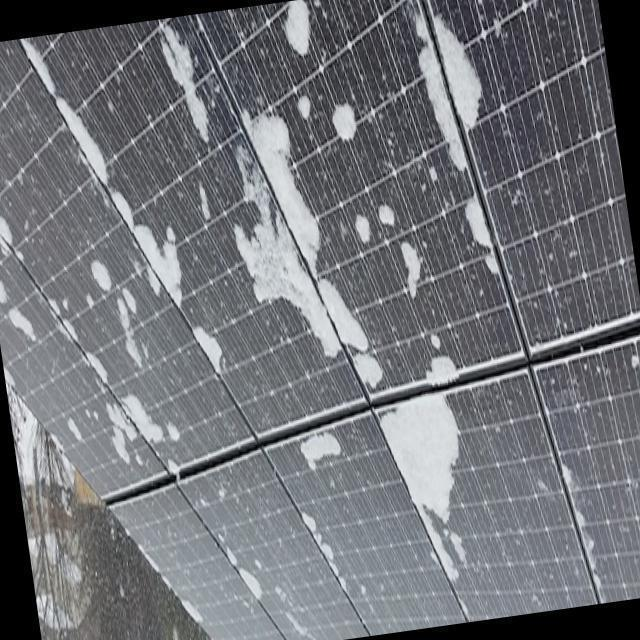Anomaly Solar Panel: (18, 17, 369, 438), (199, 0, 528, 397), (0, 41, 254, 476), (424, 0, 639, 352), (375, 369, 597, 621), (262, 410, 467, 635), (0, 238, 168, 500), (179, 452, 370, 640), (533, 337, 640, 601), (107, 486, 286, 640)
Snow: (368, 365, 484, 558), (230, 102, 311, 308), (409, 0, 497, 151), (83, 246, 159, 375), (290, 266, 375, 365), (157, 14, 219, 145), (129, 187, 183, 334), (102, 370, 174, 479), (51, 87, 114, 205), (462, 187, 512, 293), (222, 531, 268, 615), (298, 420, 348, 483), (349, 179, 397, 242), (1, 281, 39, 356), (18, 35, 57, 106), (399, 221, 425, 324), (183, 310, 230, 365), (280, 0, 315, 63), (330, 102, 365, 148), (0, 194, 23, 263), (197, 177, 213, 234)
